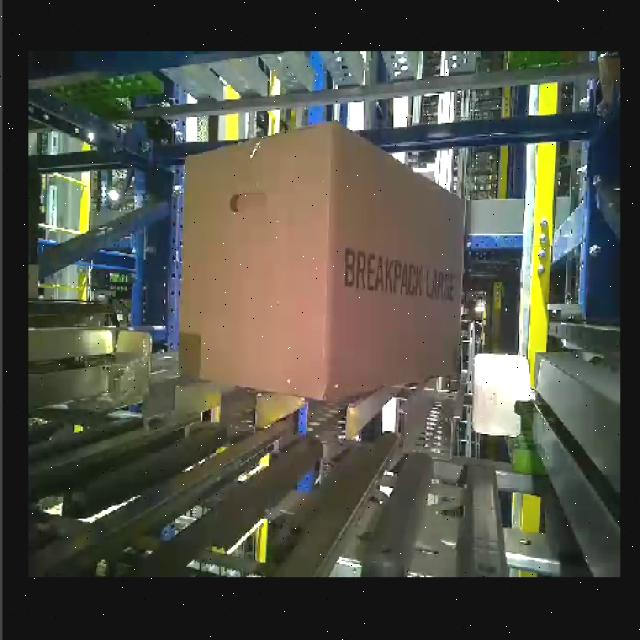box: (325, 119, 467, 403)
